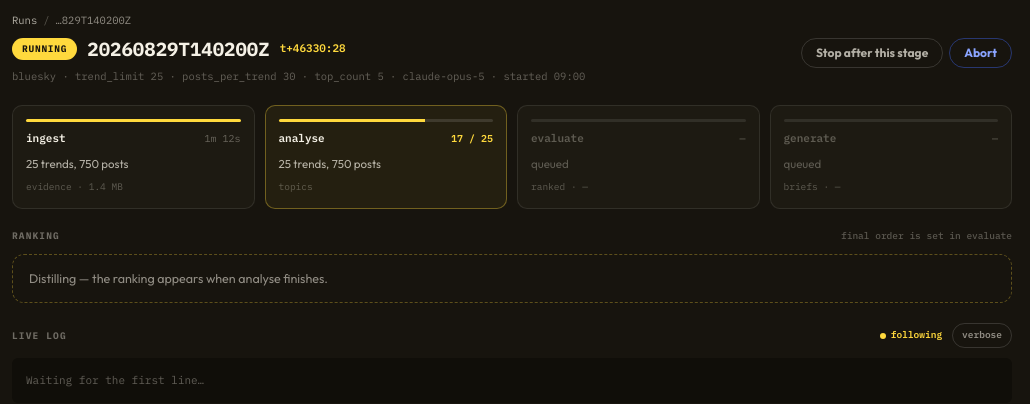
it: RunDetailPage › acknowledges a pending stop until the stage actually ends
Click the button "Stop after this stage": (872, 53) [801, 38, 943, 68]
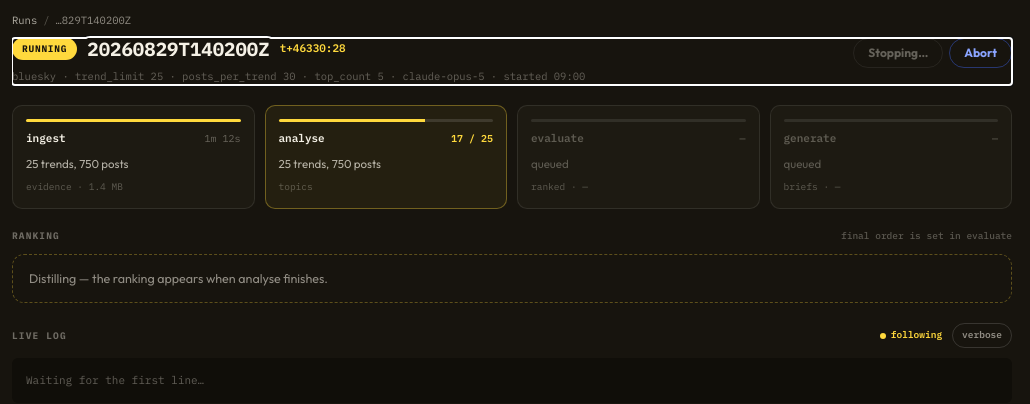
Check: the button "Abort" is enabled, box [949, 38, 1012, 68]
Check: the button "Stopping…" is disabled, box [853, 38, 943, 68]
